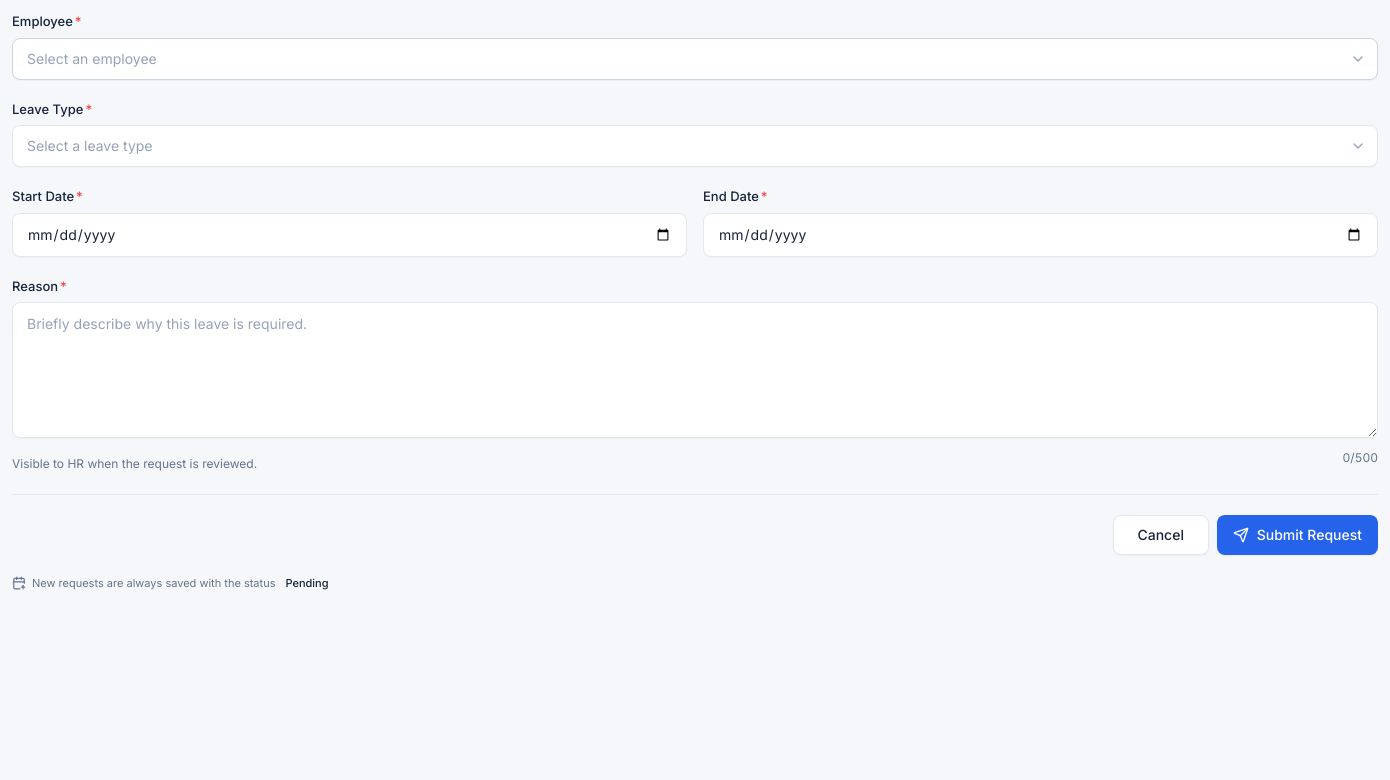
Test: LeaveRequestForm validation › submits a valid request to the API
This screenshot has width=1390, height=780.
Select "Kasun Perera · IT" in the dropdown labelled "Employee*" at (695, 58), box [12,38,1378,80]
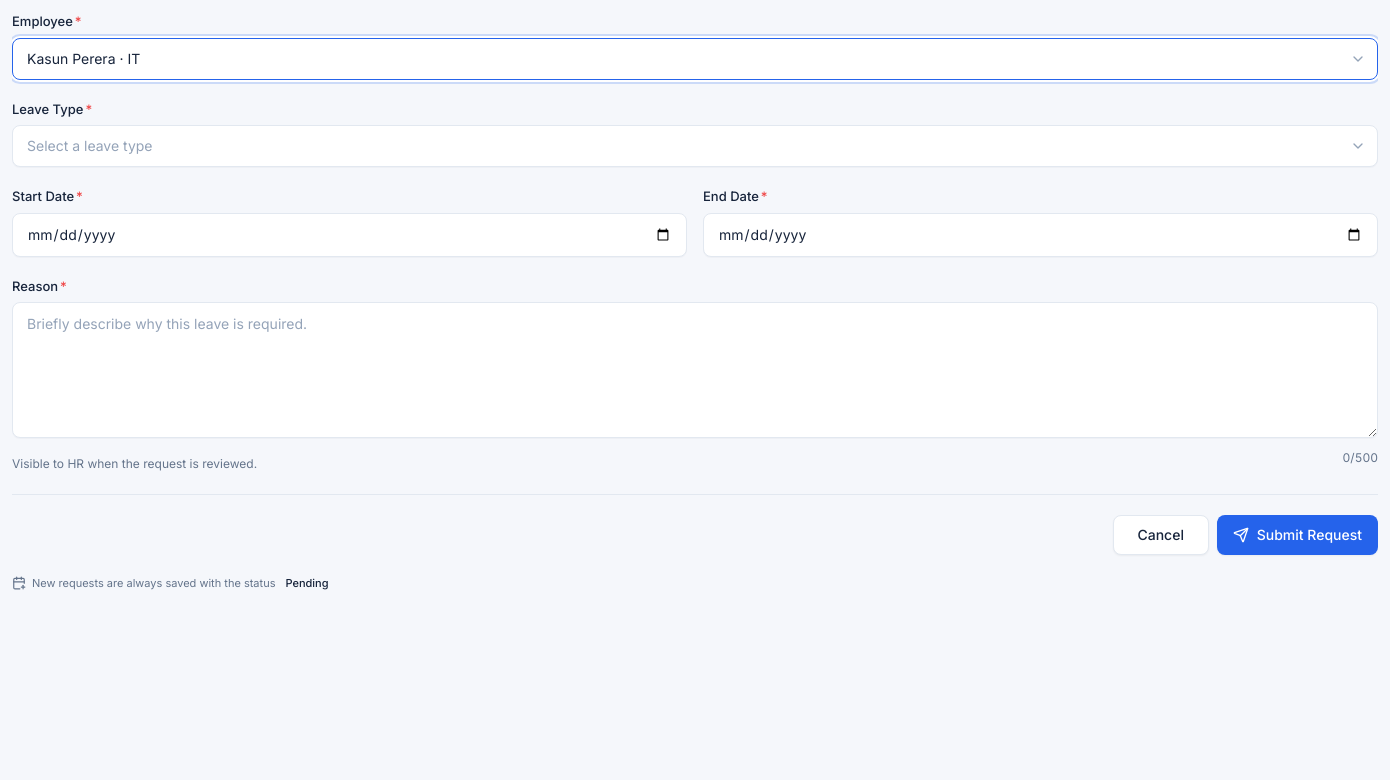
Select "Medical" in the dropdown labelled "Leave Type*" at (695, 146), box [12,125,1378,167]
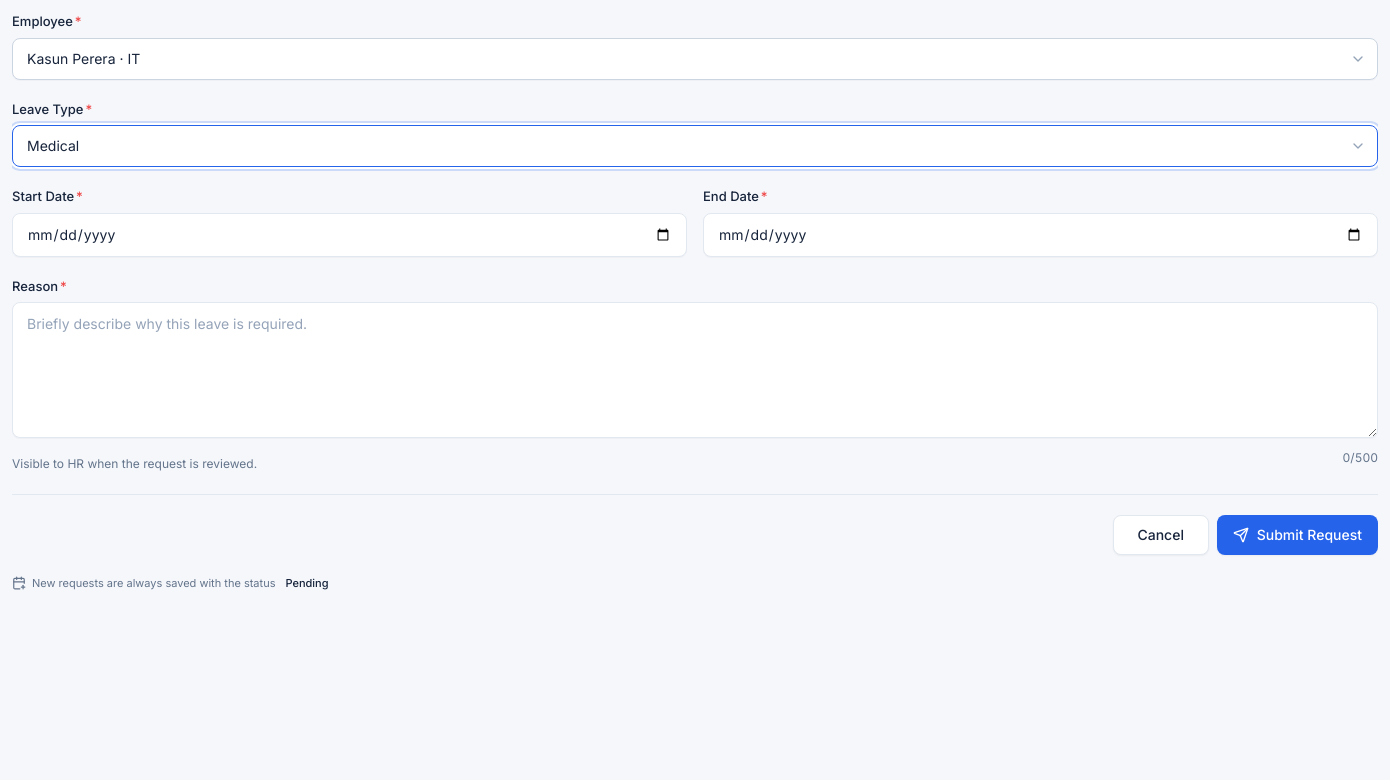
Type "2026-12-01" into the date field labelled "Start Date*" at (350, 234), box [12,212,687,256]
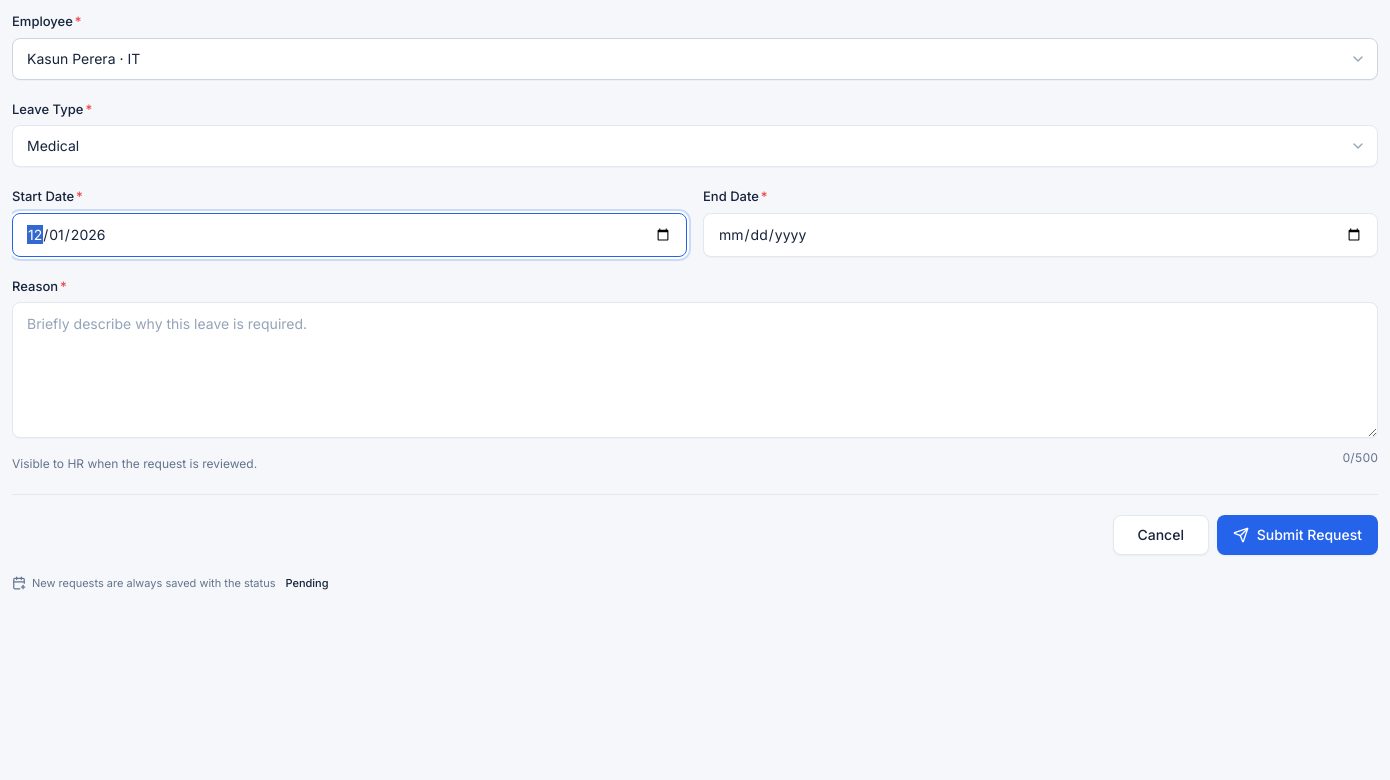
Type "2026-12-03" into the date field labelled "End Date*" at (1040, 234), box [703,212,1378,256]
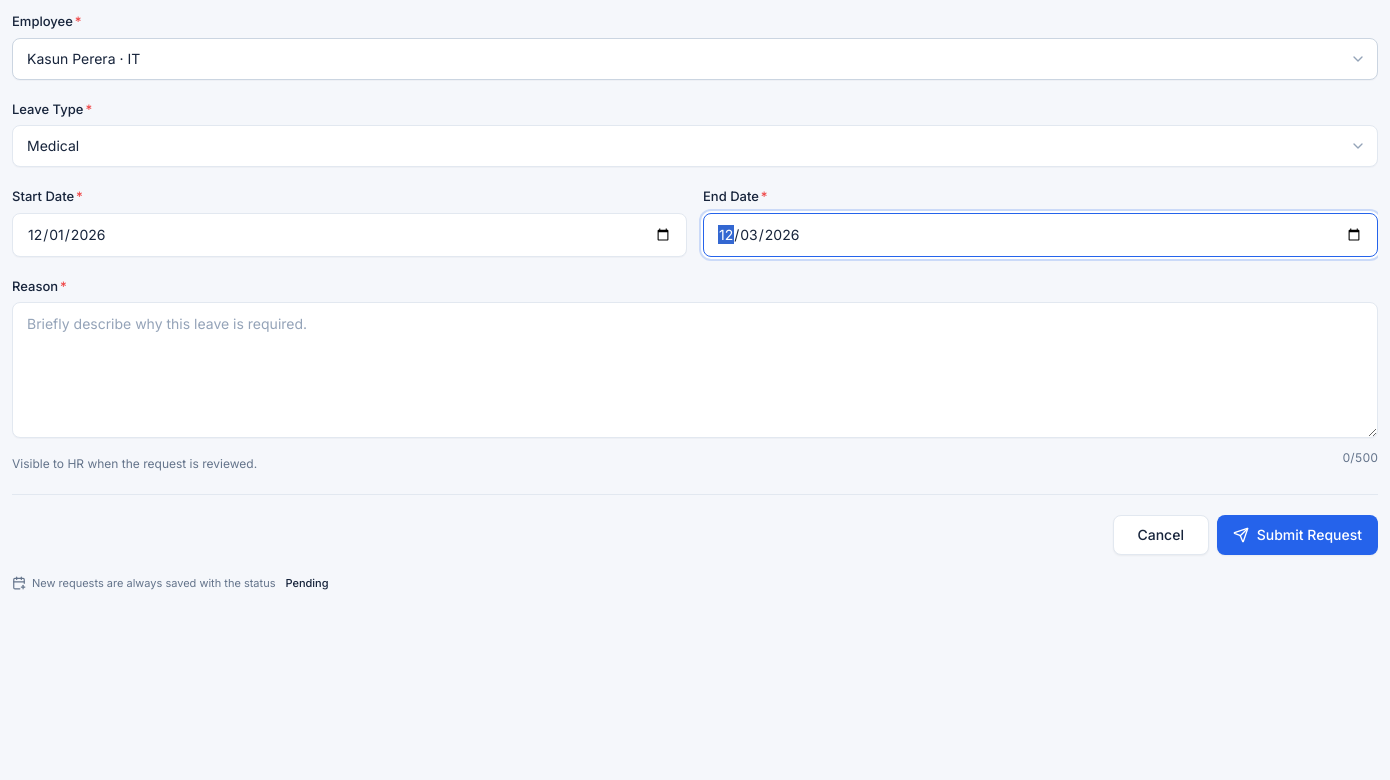
Type "  Dental surgery  " into the text box labelled "Reason*" at (695, 370), box [12,302,1378,438]
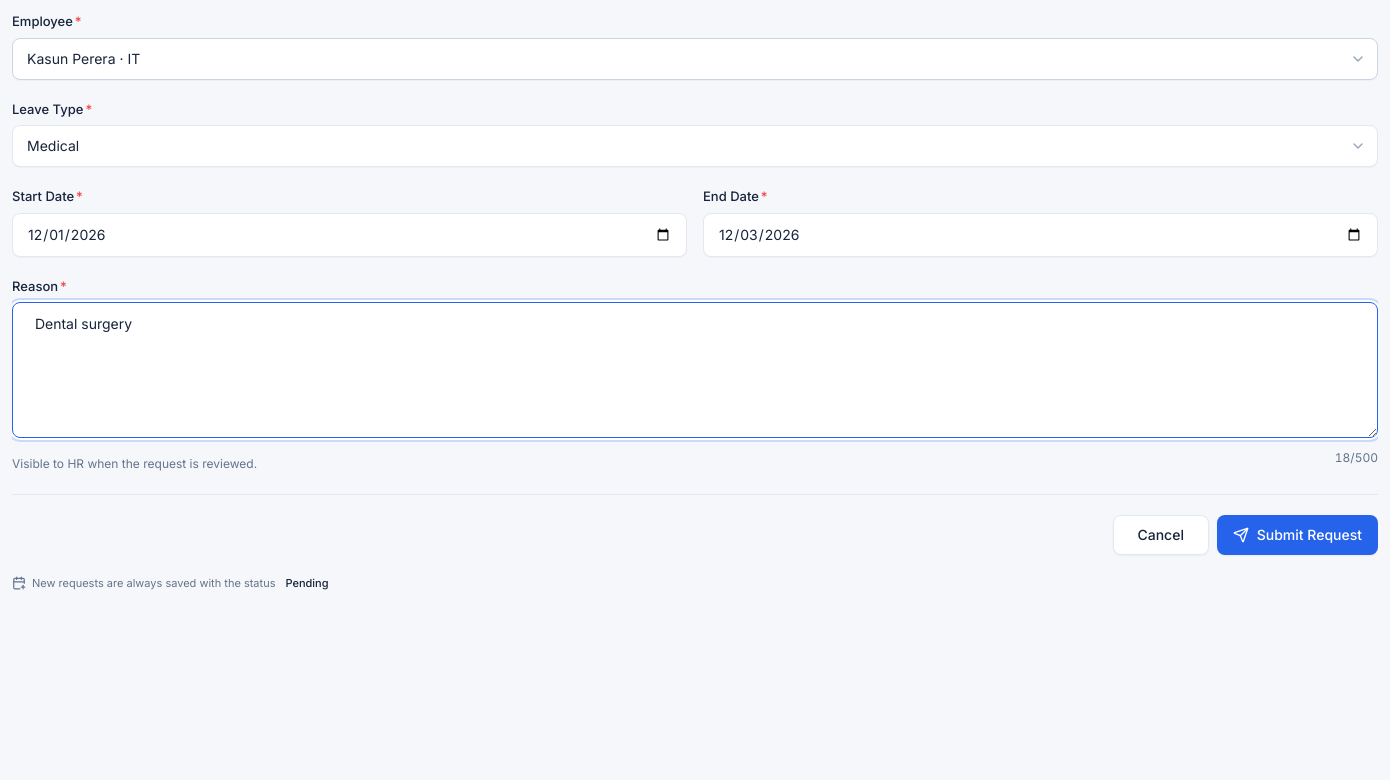
Click the button "Submit Request" at (1297, 535), box [1217,515,1378,555]
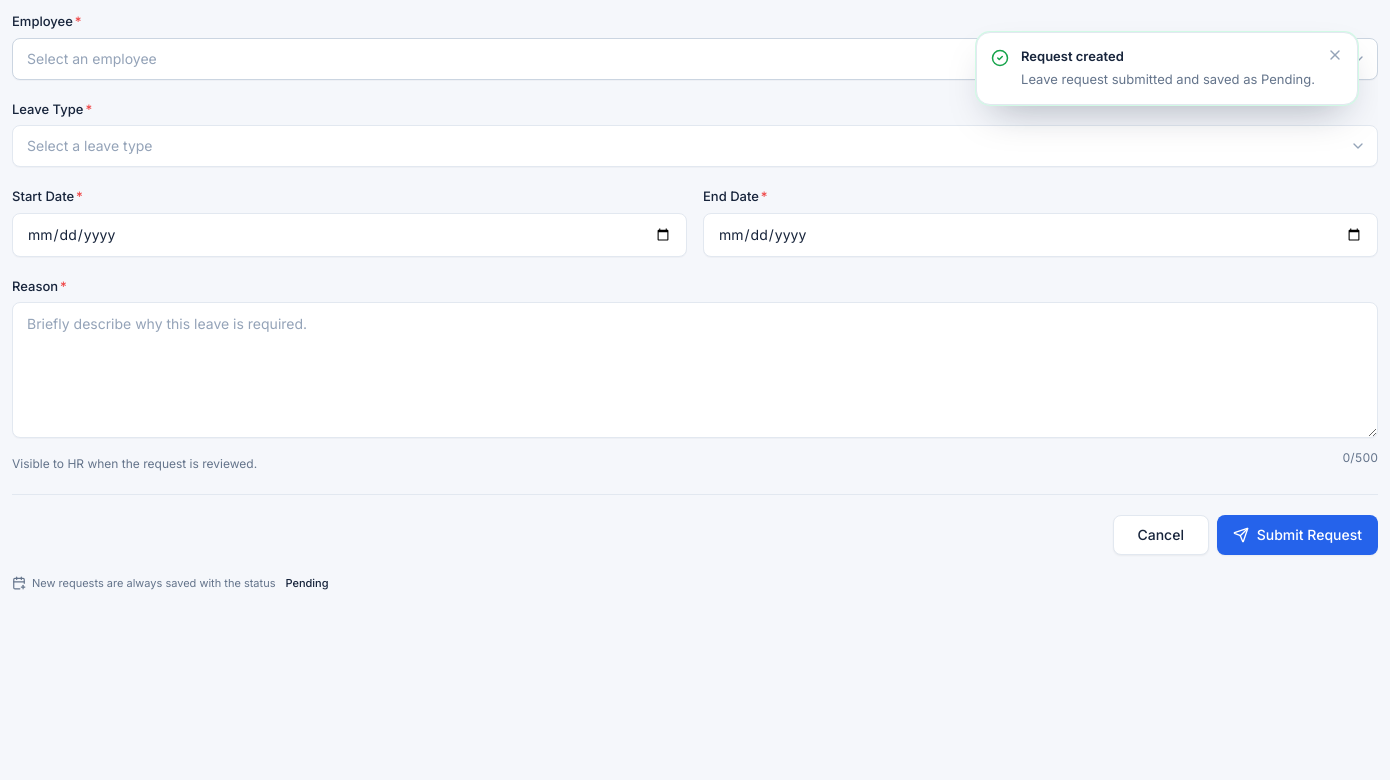
Expected: the text "Request created" is shown, [1021,48,1124,64]
